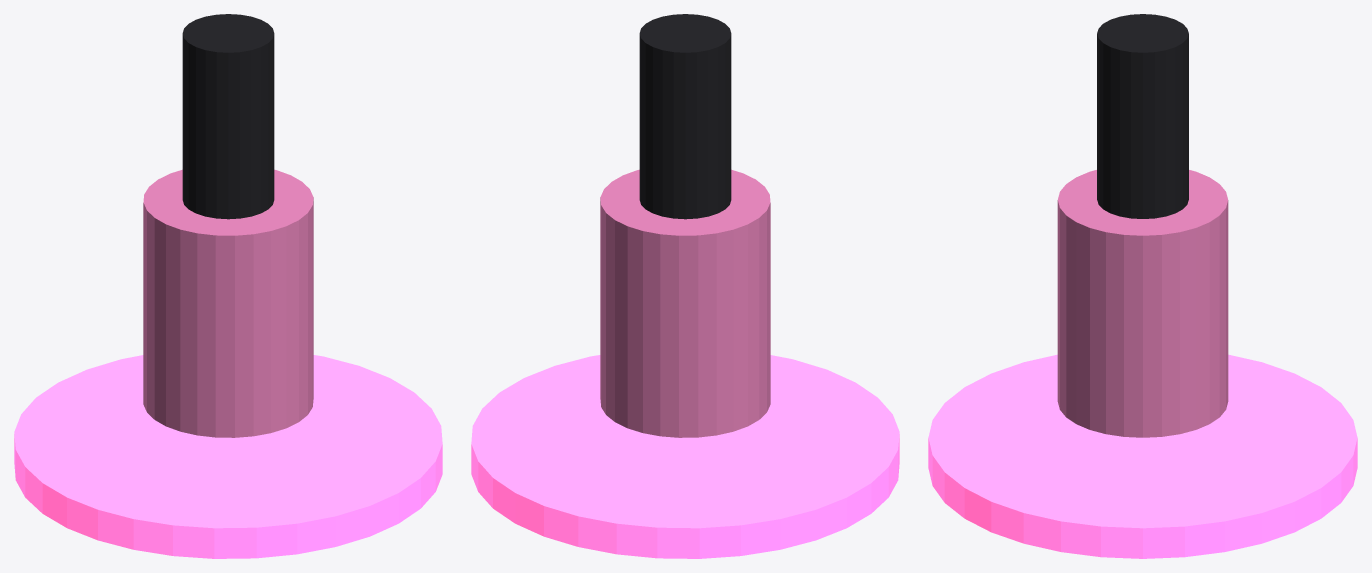
File: beauty_nail_polish.glb
The picture shows the model from 3 angles, left to right: view 1: azimuth 30°, elevation 25°; view 2: azimuth 150°, elevation 25°; view 3: azimuth 270°, elevation 25°; orthographic projection.
Visible parts, largest first — view 1: 03_05_Popular_Beauty_Nail_Polish_ROOT_base, 03_05_Popular_Beauty_Nail_Polish_part_01, 03_05_Popular_Beauty_Nail_Polish_part_02; view 2: 03_05_Popular_Beauty_Nail_Polish_ROOT_base, 03_05_Popular_Beauty_Nail_Polish_part_01, 03_05_Popular_Beauty_Nail_Polish_part_02; view 3: 03_05_Popular_Beauty_Nail_Polish_ROOT_base, 03_05_Popular_Beauty_Nail_Polish_part_01, 03_05_Popular_Beauty_Nail_Polish_part_02.
Part boxes in pixels (x1,y1,x2,y2): 03_05_Popular_Beauty_Nail_Polish_ROOT_base: [14, 355, 442, 558]; 03_05_Popular_Beauty_Nail_Polish_part_01: [143, 169, 313, 437]; 03_05_Popular_Beauty_Nail_Polish_part_02: [182, 14, 274, 219]; 03_05_Popular_Beauty_Nail_Polish_ROOT_base: [471, 355, 899, 558]; 03_05_Popular_Beauty_Nail_Polish_part_01: [600, 169, 770, 437]; 03_05_Popular_Beauty_Nail_Polish_part_02: [639, 14, 731, 219]; 03_05_Popular_Beauty_Nail_Polish_ROOT_base: [928, 354, 1357, 558]; 03_05_Popular_Beauty_Nail_Polish_part_01: [1057, 170, 1228, 437]; 03_05_Popular_Beauty_Nail_Polish_part_02: [1097, 14, 1188, 218].
Bounding box in the file's own units: 0.76 × 0.85 × 0.76.
